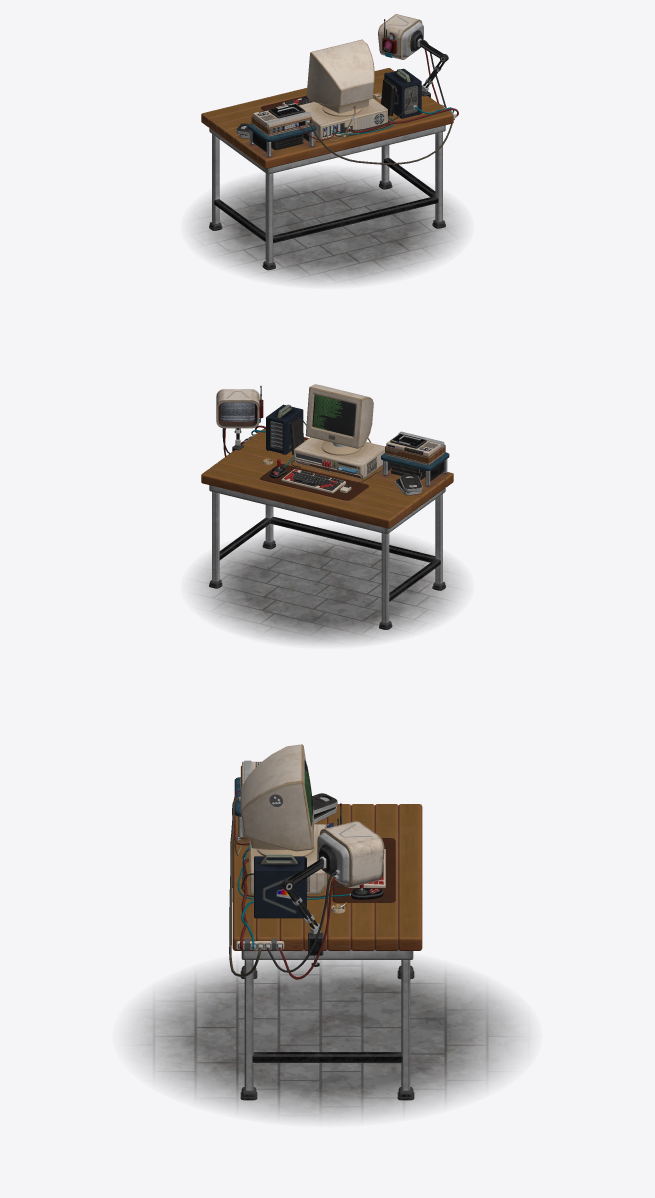
3 renders of one model, top to bottom at view 1: azimuth 30°, elevation 25°; view 2: azimuth 150°, elevation 25°; view 3: azimuth 270°, elevation 25°, orthographic. The views are drawn at different scales.
Visible parts, largest first — view 1: Ground_ground_mat_0, table_table_mat_0, computer_computer_mat_0, Cables_cables_mat_0, Tv_tv_mat_0, vhs_vhsPlayer_mat_0, server_server_mat_0, props_props_mat_0, shelf_stand_mat_0, arm_arm_mat_0; view 2: Ground_ground_mat_0, table_table_mat_0, computer_computer_mat_0, screen_screens_0, vhs_vhsPlayer_mat_0, server_server_mat_0, props_props_mat_0, Tv_tv_mat_0, peripherals_key_mat_0, keyboard_mat_mat_mat_0, shelf_stand_mat_0; view 3: Ground_ground_mat_0, table_table_mat_0, computer_computer_mat_0, Tv_tv_mat_0, Cables_cables_mat_0, server_server_mat_0, arm_arm_mat_0, keyboard_mat_mat_mat_0, props_props_mat_0, peripherals_key_mat_0.
Boxes of the visible parts, x1,y1,x2,y2 form: Ground_ground_mat_0: (190, 169, 464, 284); table_table_mat_0: (201, 68, 453, 270); computer_computer_mat_0: (299, 39, 387, 139); Cables_cables_mat_0: (295, 39, 458, 164); Tv_tv_mat_0: (378, 14, 423, 59); vhs_vhsPlayer_mat_0: (251, 103, 312, 136); server_server_mat_0: (384, 68, 421, 118); props_props_mat_0: (236, 79, 395, 150); shelf_stand_mat_0: (247, 123, 316, 157); arm_arm_mat_0: (410, 30, 448, 97); Ground_ground_mat_0: (190, 529, 464, 644); table_table_mat_0: (201, 428, 453, 629); computer_computer_mat_0: (293, 384, 384, 479); screen_screens_0: (221, 394, 355, 436); vhs_vhsPlayer_mat_0: (385, 431, 445, 465); server_server_mat_0: (266, 404, 303, 454); props_props_mat_0: (263, 417, 425, 495); Tv_tv_mat_0: (216, 386, 263, 428); peripherals_key_mat_0: (269, 459, 351, 493); keyboard_mat_mat_mat_0: (260, 464, 368, 500); shelf_stand_mat_0: (381, 452, 449, 486); Ground_ground_mat_0: (126, 959, 528, 1121); table_table_mat_0: (232, 804, 422, 1100); computer_computer_mat_0: (240, 744, 327, 894); Tv_tv_mat_0: (317, 803, 384, 887); Cables_cables_mat_0: (229, 788, 350, 979); server_server_mat_0: (254, 854, 306, 918); arm_arm_mat_0: (281, 844, 337, 966); keyboard_mat_mat_mat_0: (332, 838, 395, 902); props_props_mat_0: (312, 793, 346, 913); peripherals_key_mat_0: (349, 849, 385, 899).
Bounding box in the file's own units: 272 × 119 × 245.
Materials: 14 (14 with a texture image).
